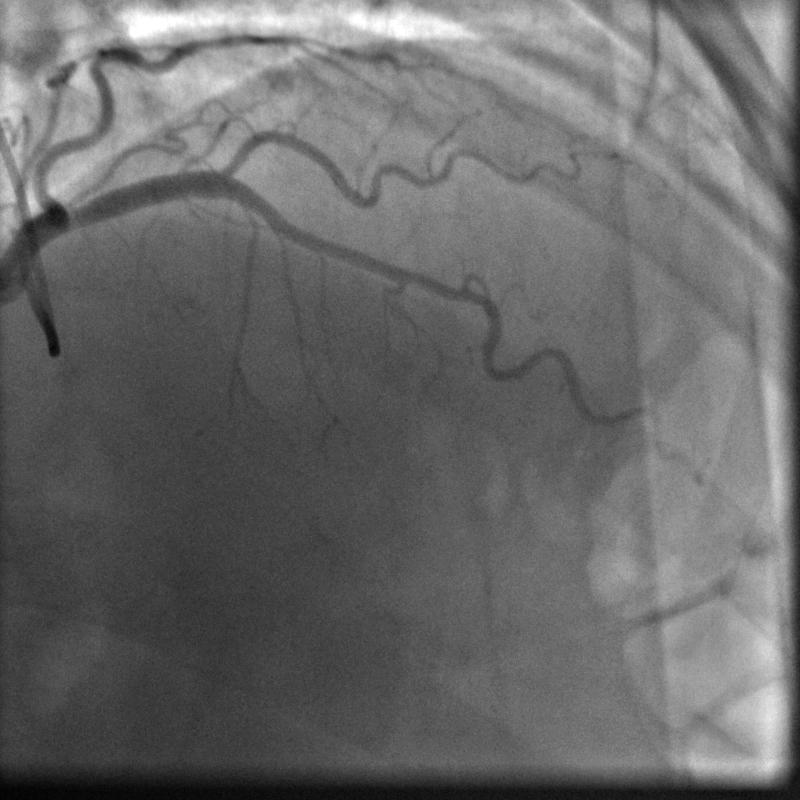Stenosis: (423, 277, 499, 311)
